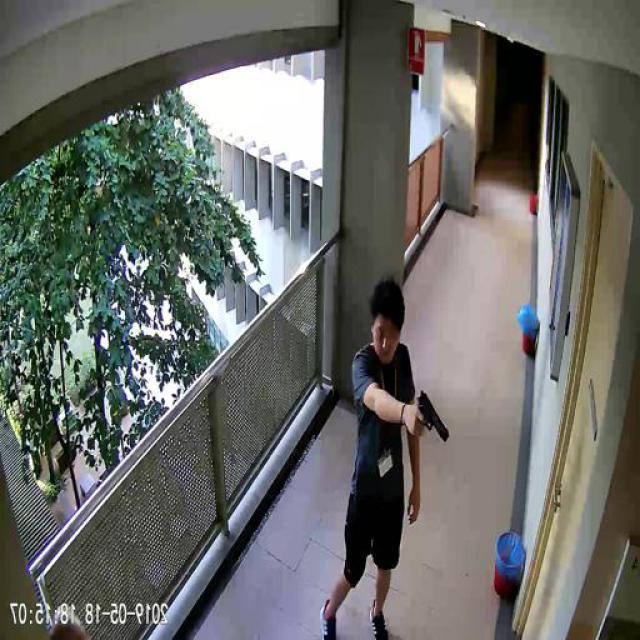Gun: (412, 388, 452, 440)
